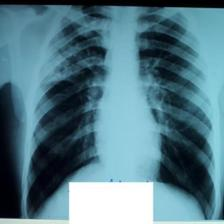tuberculosis: (21, 7, 218, 224)
